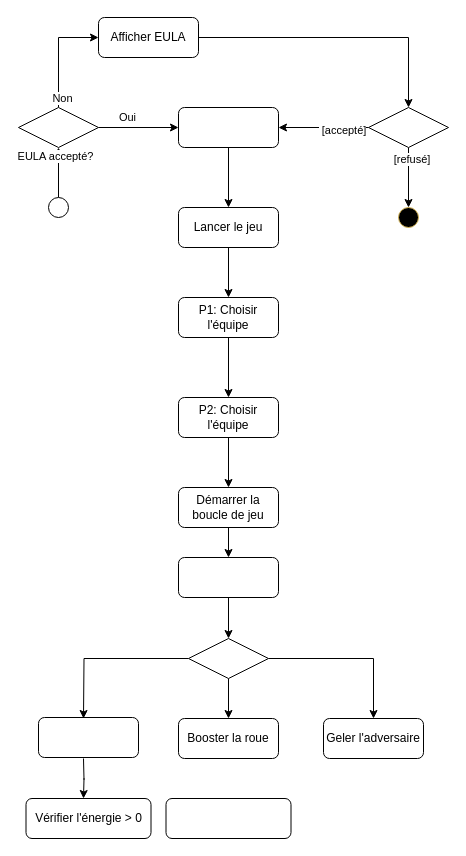
The diagram is 466 pixels wide and 856 high, and some of its shapes have lost their labels. Each missing label, with the centre of its shape:
"Afficher le menu" goes at point 228,127.
"Attendre la saisie de l'utilisateur" goes at point 228,577.
"Déplacer la roue" goes at point 88,737.
"Verifier non geler" goes at point 228,818.
